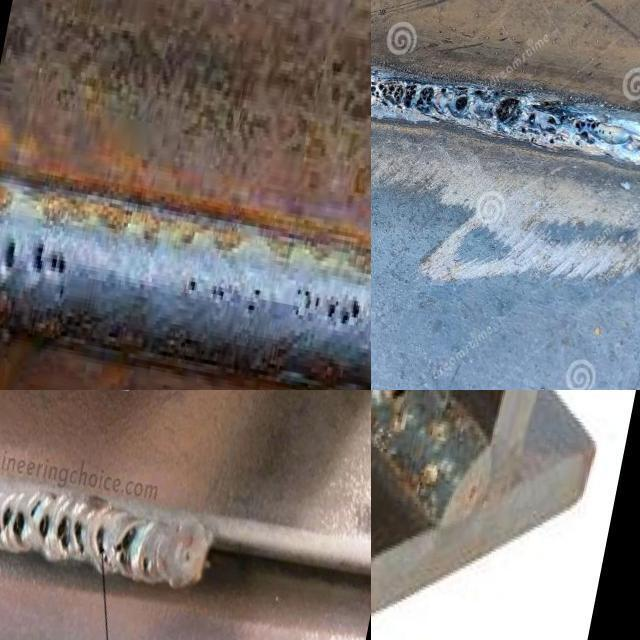defect: (371, 68, 485, 125), (517, 96, 617, 154), (31, 233, 70, 310), (0, 498, 45, 544), (326, 287, 363, 334), (292, 276, 323, 330), (114, 523, 140, 571), (491, 96, 523, 126), (0, 233, 22, 272), (93, 522, 111, 566), (243, 284, 265, 317), (208, 282, 229, 309), (182, 266, 199, 298), (56, 516, 71, 550), (73, 521, 86, 555), (387, 390, 412, 407), (37, 513, 51, 541), (142, 554, 153, 576)
